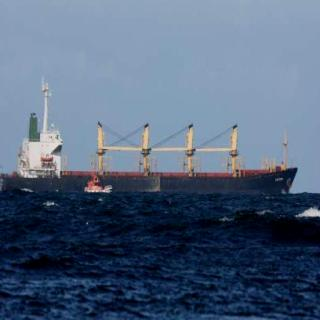Bulk Carrier: (81, 117, 304, 193)
